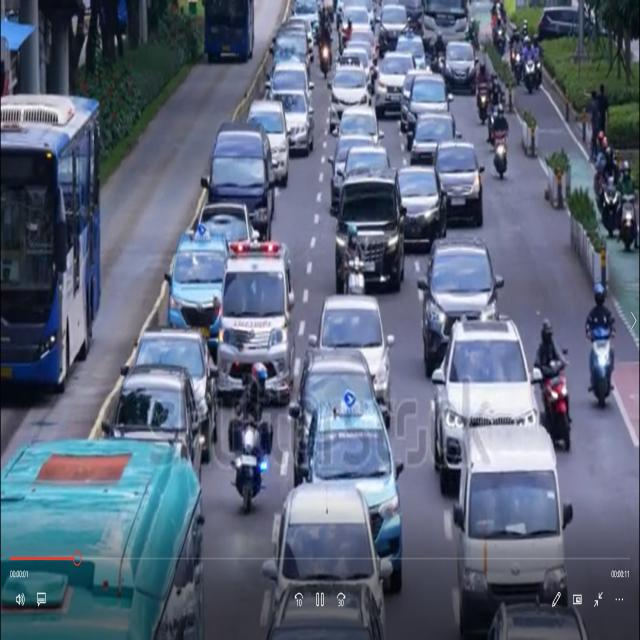Ambulance: (218, 227, 296, 422)
